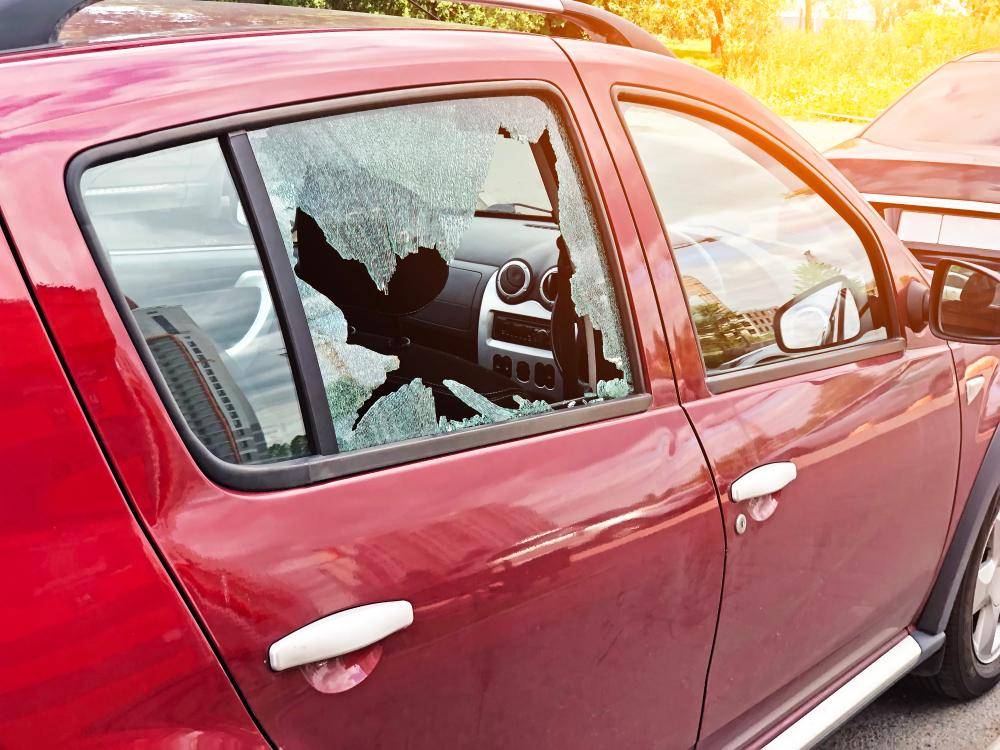glass shatter: (245, 93, 640, 453)
